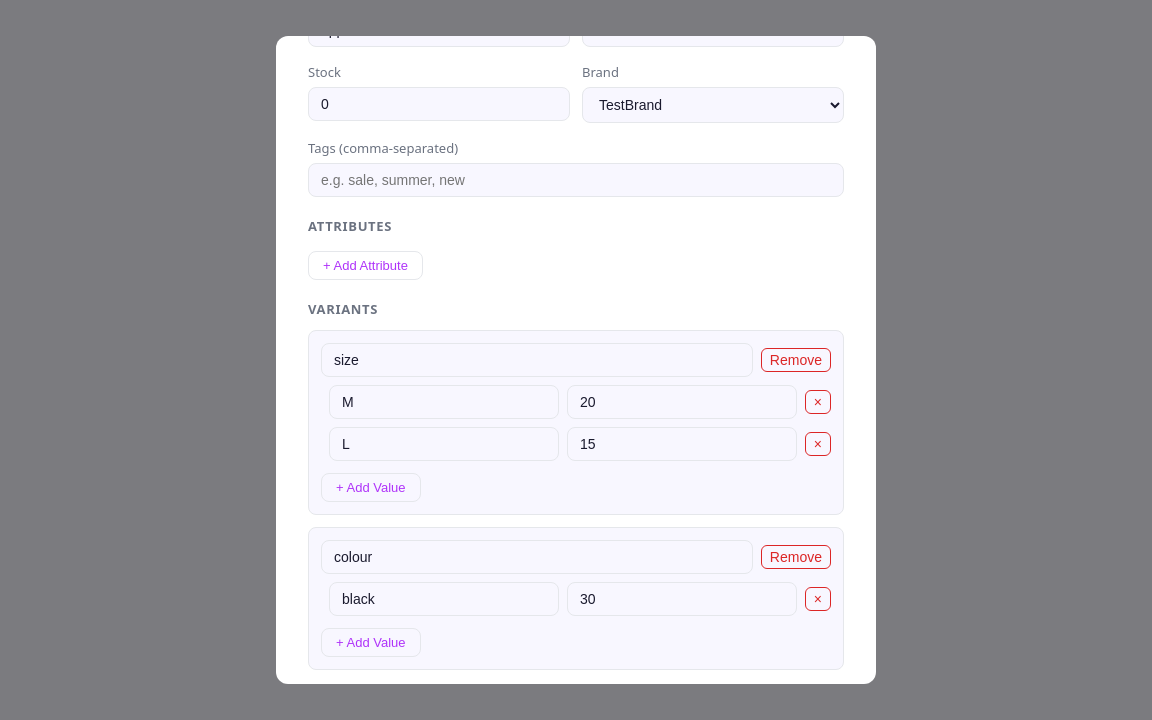
Scenario: ProductForm variants section › removing a variant type removes it entirely
(page scrolled)
Click the button with aria-label "remove variant type".
click(796, 360)  # box [761,348,831,372]
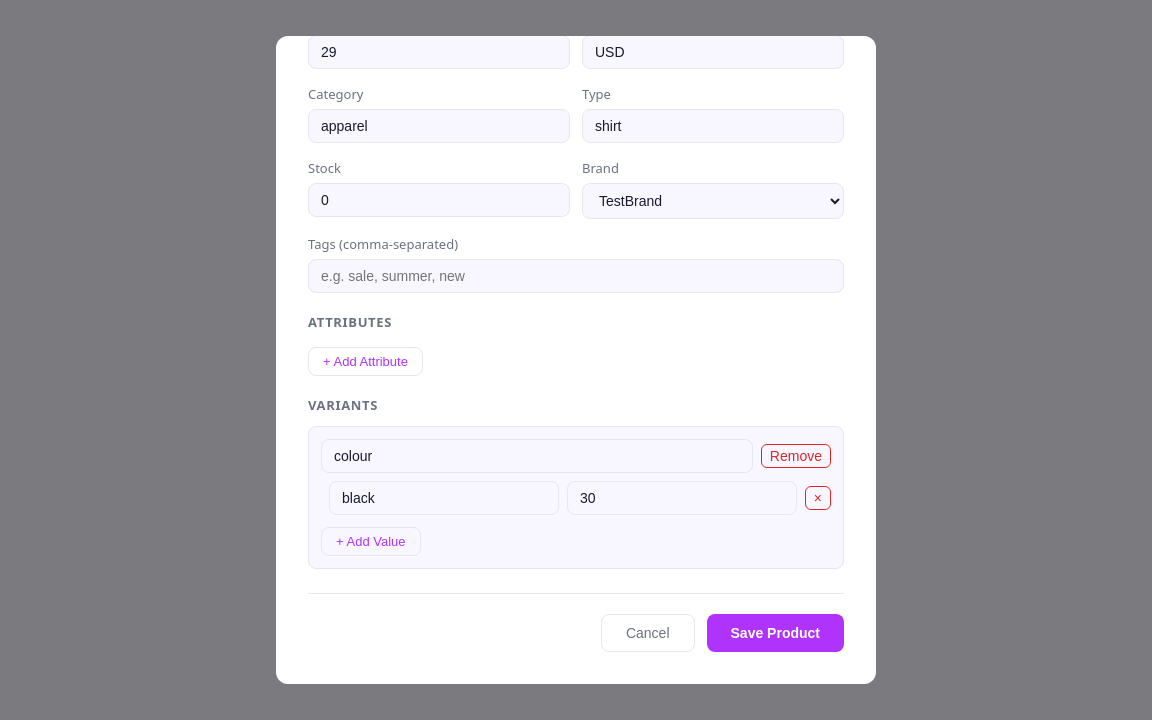
Expected: the number of fields with placeholder "Variant type (e.g. colour, size)" is 1, [321,439,753,473]
